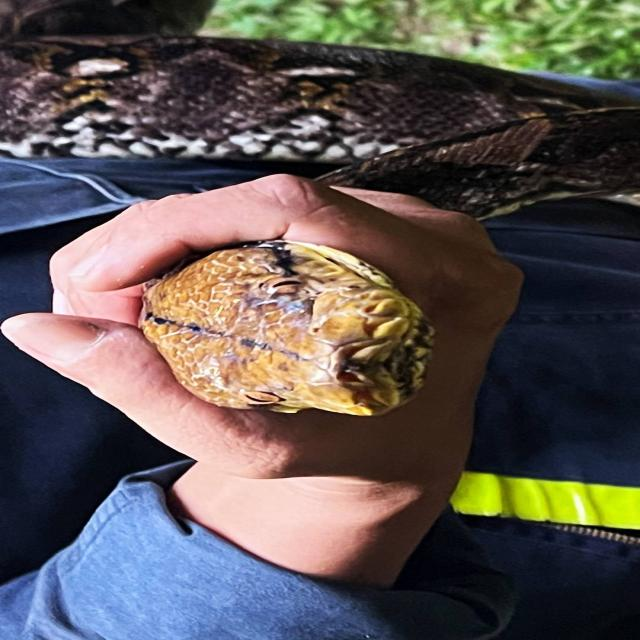Non-Venomous: (154, 243, 413, 408)
